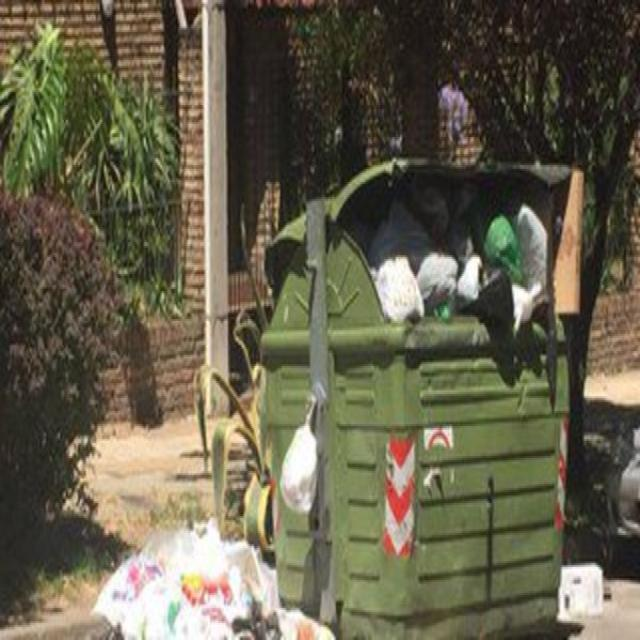garbage: (84, 517, 332, 638), (353, 176, 569, 314), (274, 378, 334, 542), (553, 556, 608, 626)
